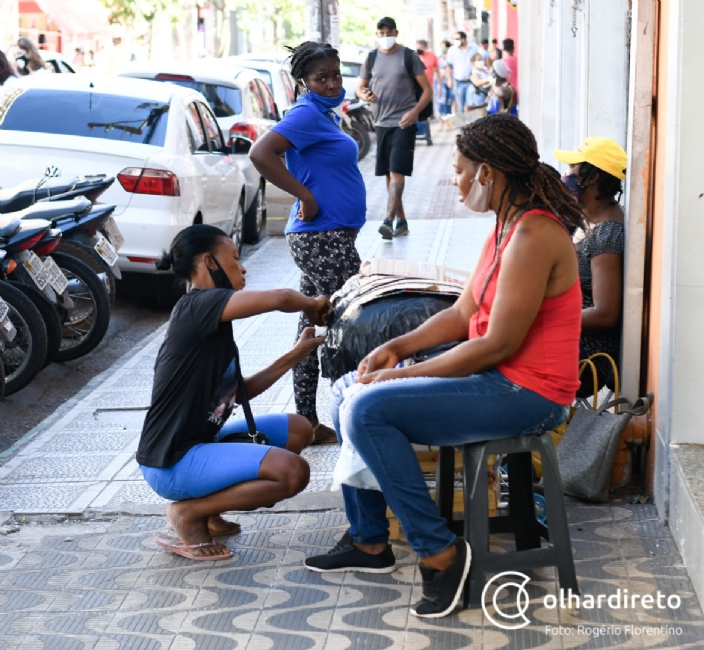mask_weared_incorrect: (450, 149, 500, 218), (296, 59, 347, 109), (202, 246, 251, 296)
